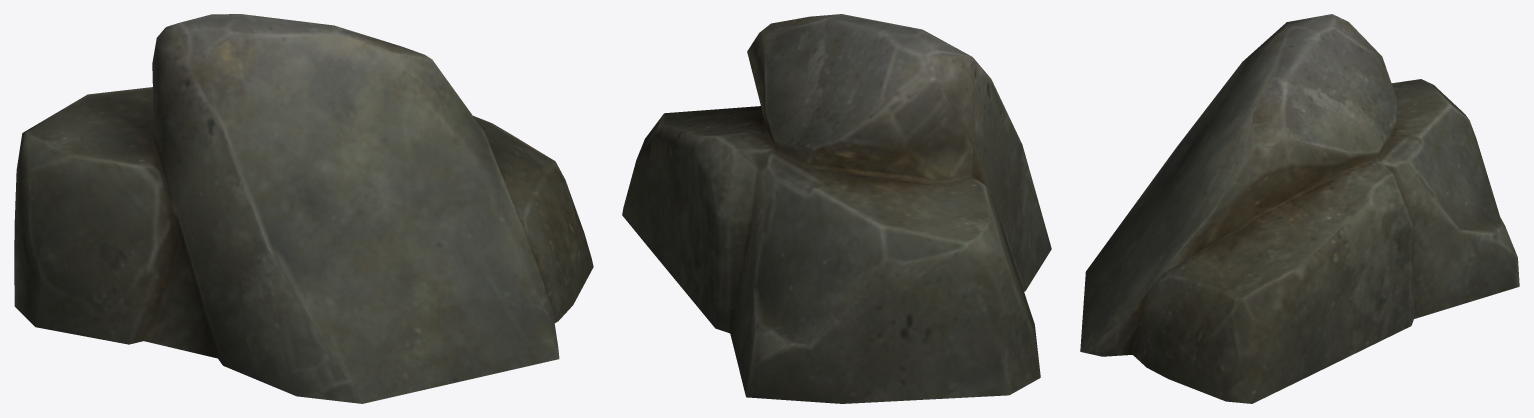
The model's file is rocks4.fbx.
3 renders of one model, left to right at view 1: azimuth 30°, elevation 25°; view 2: azimuth 150°, elevation 25°; view 3: azimuth 270°, elevation 25°, orthographic. The views are drawn at different scales.
Visible parts, largest first — view 1: rock04; view 2: rock04; view 3: rock04.
Boxes of the visible parts, left/top/right/bottom form: rock04: left=14, top=14, right=593, bottom=403; rock04: left=622, top=14, right=1051, bottom=403; rock04: left=1080, top=14, right=1519, bottom=403.
Bounding box in the file's own units: 363 × 204 × 334.
1 material, 1 textured.
